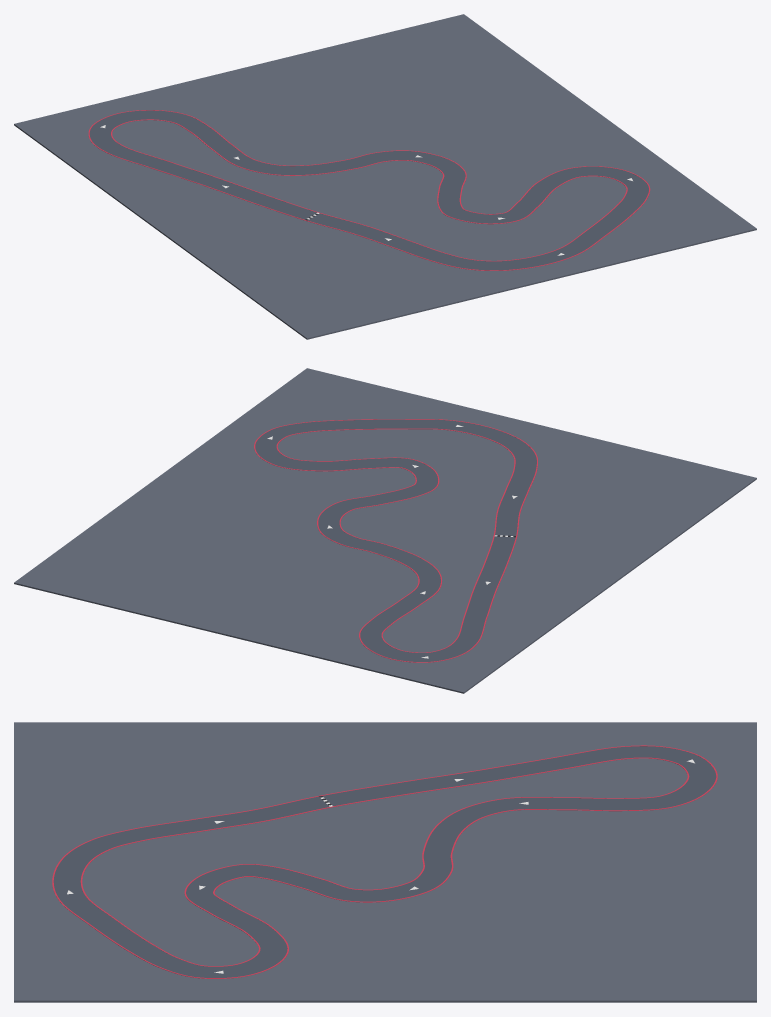
The model's file is winding_track (1).fbx.
3 views of the same model, one above another, from view 1: azimuth 30°, elevation 25°; view 2: azimuth 150°, elevation 25°; view 3: azimuth 270°, elevation 25° (orthographic). The views are drawn at different scales.
Visible parts, largest first — view 1: Ground_Preview, Driveable_Road, Right_Edge, Left_Edge; view 2: Ground_Preview, Driveable_Road, Right_Edge, Left_Edge; view 3: Ground_Preview, Driveable_Road, Right_Edge, Left_Edge.
Part boxes in pixels (left/top/right/bottom): Ground_Preview: left=14, top=14, right=756, bottom=339; Driveable_Road: left=89, top=110, right=648, bottom=270; Right_Edge: left=88, top=110, right=650, bottom=270; Left_Edge: left=111, top=119, right=627, bottom=261; Ground_Preview: left=14, top=368, right=756, bottom=693; Driveable_Road: left=255, top=419, right=536, bottom=661; Right_Edge: left=254, top=419, right=537, bottom=662; Left_Edge: left=276, top=428, right=515, bottom=652; Ground_Preview: left=14, top=722, right=756, bottom=1002; Driveable_Road: left=53, top=746, right=716, bottom=977; Right_Edge: left=52, top=745, right=717, bottom=978; Left_Edge: left=80, top=757, right=689, bottom=966.
Size of the model in its own units: 22000 by 77.8 by 19500.
